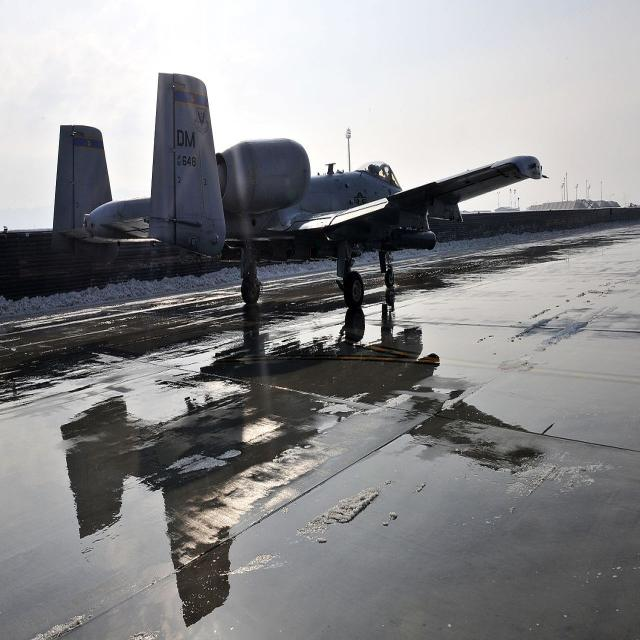MIL_Plane: (51, 70, 548, 304)
